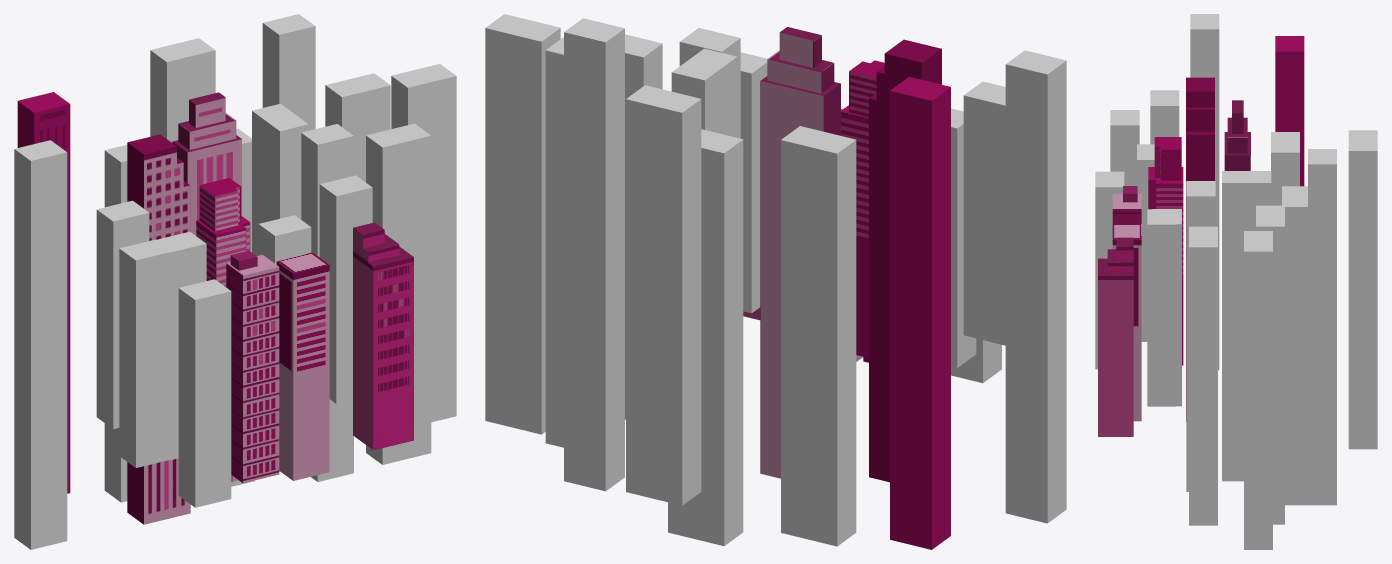
File: bailarinas_edificio.fbx
3 views of the same model, side by side, from view 1: azimuth 30°, elevation 25°; view 2: azimuth 150°, elevation 25°; view 3: azimuth 270°, elevation 25° (orthographic). The views are drawn at different scales.
Parts seen in each view (by area): view 1: Cube.023, Cube.010, Cube.002, Cube.005, Cube.019, Cube.018, Cube.007, Cube.000, Cube.001, Cube.009, Cube.004, Cube.015 (+12 smaller); view 2: Cube.012, Cube.013, Cube.023, Cube.020, Cube.021, Cube.018, Cube.014, Cube.017, Cube.004, Cube.001, Cube.016, Cube.009 (+7 smaller); view 3: Cube.021, Cube.013, Cube.018, Cube.019, Cube.015, Cube.014, Cube.010, Cube.009, Cube.016, Cube.001, Cube.020, Cube.023 (+12 smaller).
Boxes of the visible parts, bbox=[...] form: Cube.023: bbox=[14, 140, 67, 549]; Cube.010: bbox=[353, 222, 413, 450]; Cube.002: bbox=[178, 279, 231, 507]; Cube.005: bbox=[119, 239, 171, 467]; Cube.019: bbox=[366, 123, 431, 464]; Cube.018: bbox=[391, 64, 456, 422]; Cube.007: bbox=[276, 252, 329, 480]; Cube.000: bbox=[226, 254, 279, 483]; Cube.001: bbox=[127, 134, 190, 524]; Cube.009: bbox=[319, 175, 372, 403]; Cube.004: bbox=[96, 200, 149, 429]; Cube.015: bbox=[252, 103, 308, 471]; Cube.012: bbox=[781, 126, 856, 546]; Cube.013: bbox=[626, 85, 701, 505]; Cube.023: bbox=[1005, 50, 1066, 523]; Cube.020: bbox=[890, 76, 950, 549]; Cube.021: bbox=[564, 18, 624, 491]; Cube.018: bbox=[485, 14, 560, 434]; Cube.014: bbox=[668, 129, 743, 546]; Cube.017: bbox=[760, 27, 840, 478]; Cube.004: bbox=[963, 81, 1005, 345]; Cube.001: bbox=[869, 39, 941, 482]; Cube.016: bbox=[545, 37, 563, 447]; Cube.009: bbox=[740, 52, 767, 313]; Cube.021: bbox=[1308, 149, 1336, 505]; Cube.013: bbox=[1348, 130, 1377, 449]; Cube.018: bbox=[1244, 231, 1272, 549]; Cube.019: bbox=[1189, 226, 1217, 525]; Cube.015: bbox=[1222, 171, 1271, 481]; Cube.014: bbox=[1282, 186, 1307, 505]; Cube.010: bbox=[1098, 237, 1133, 436]; Cube.009: bbox=[1147, 209, 1176, 406]; Cube.016: bbox=[1256, 205, 1284, 524]; Cube.001: bbox=[1186, 77, 1214, 421]; Cube.020: bbox=[1275, 36, 1304, 186]; Cube.023: bbox=[1190, 14, 1219, 370].
Bounding box in the file's own units: 10812 × 9641 × 6609.
2 materials, 2 textured.
